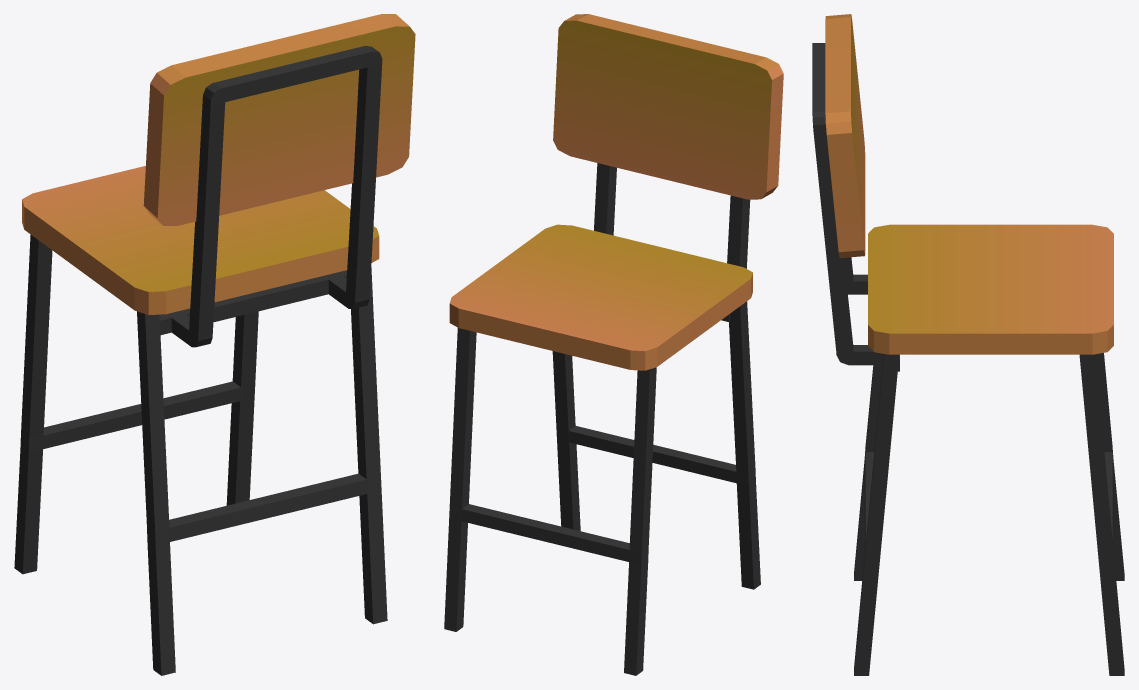
The model's file is Chaise_bar_1 1.fbx.
3 renders of one model, left to right at view 1: azimuth 30°, elevation 25°; view 2: azimuth 150°, elevation 25°; view 3: azimuth 270°, elevation 25°, orthographic. The views are drawn at different scales.
Visible parts, largest first — view 1: Chaise_bar_1; view 2: Chaise_bar_1; view 3: Chaise_bar_1.
Boxes of the visible parts, bbox=[...] form: Chaise_bar_1: bbox=[14, 14, 415, 675]; Chaise_bar_1: bbox=[444, 14, 783, 675]; Chaise_bar_1: bbox=[812, 14, 1124, 675].
Size of the model in its own units: 49.44 by 115 by 57.76.
